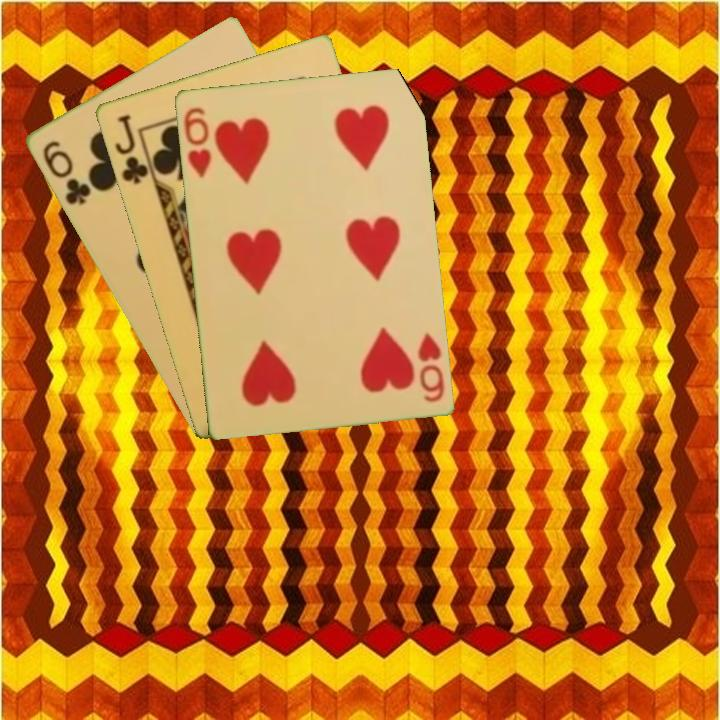6c: (38, 137, 94, 208)
6h: (180, 103, 214, 180), (413, 328, 447, 405)
Jc: (111, 111, 156, 187)
